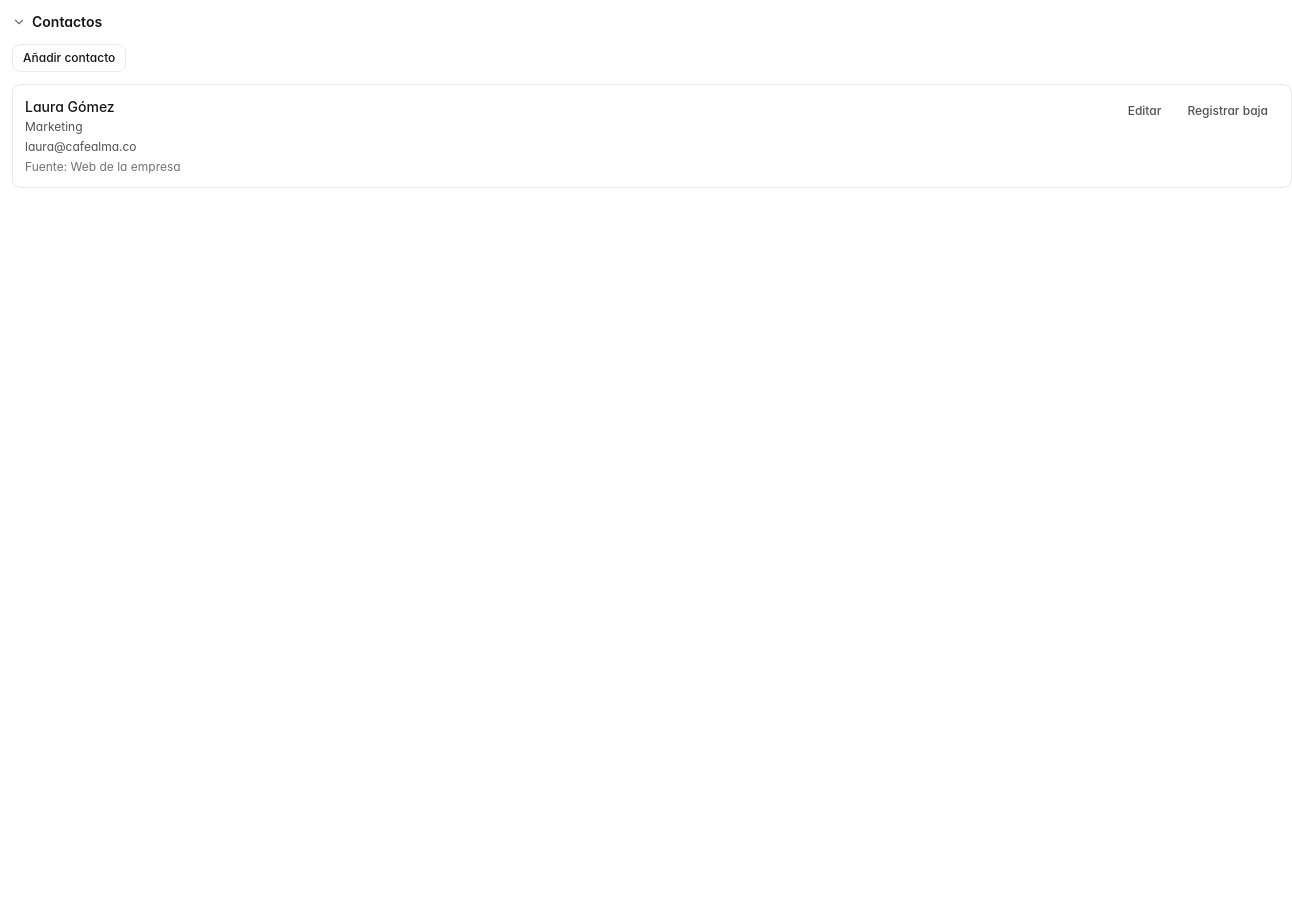
Test case: Contactos › «Editar» abre el formulario del alta con sus datos y su procedencia, y corrige el correo
Click the button with aria-label "Editar: Laura Gómez" at point(1145, 111), box [1117,97,1172,125]
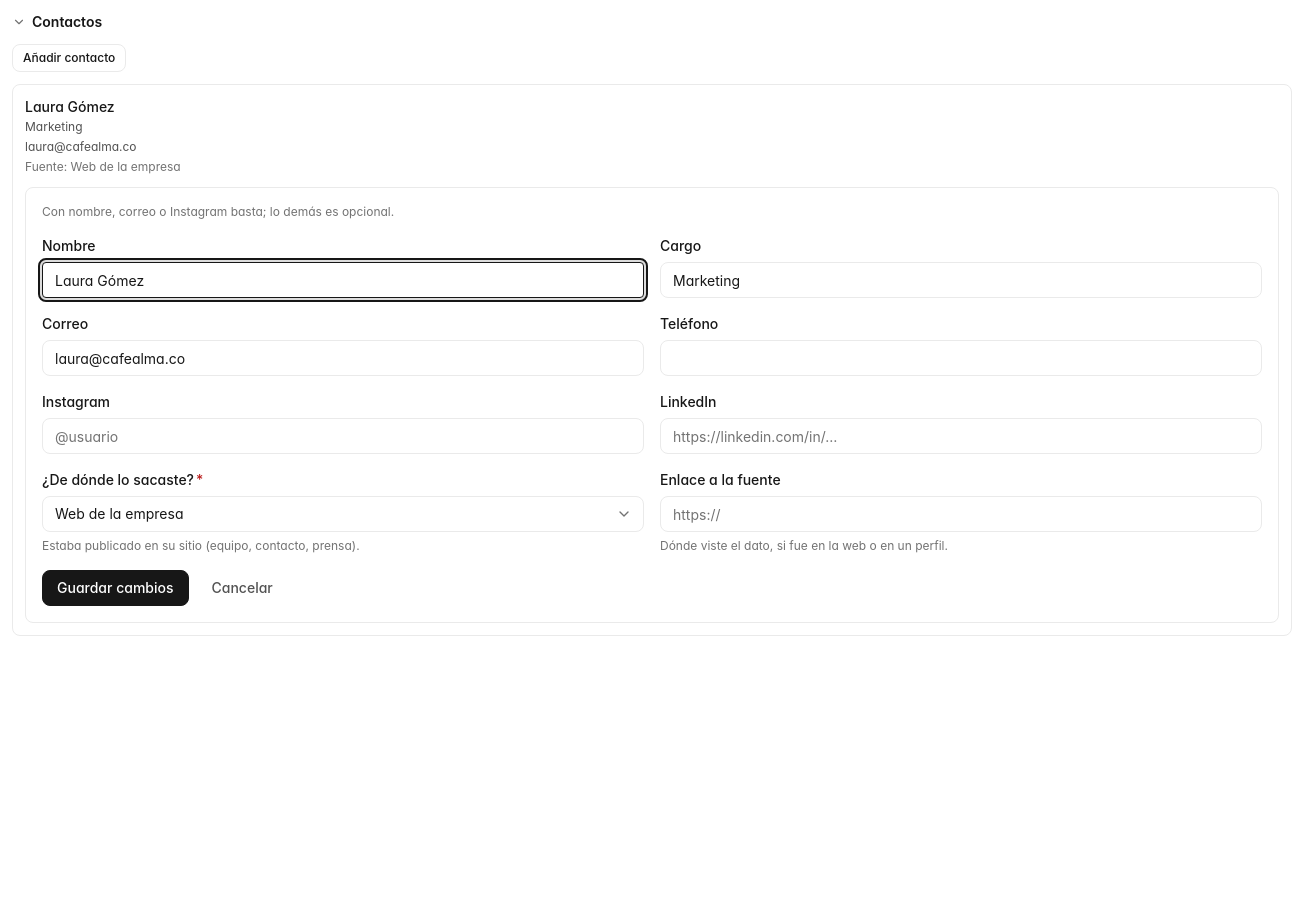
Result: the field labelled "Nombre" holds "Laura Gómez" at [42,262,644,298]
Result: the field labelled "Correo" holds "laura@cafealma.co"
Result: the dropdown labelled "¿De dónde lo sacaste?*" shows "Web de la empresa" at [42,496,644,532]
Replace the text in the field labelled "Correo" with "laura.gomez@cafealma.co" at point(343, 358), box [42,340,644,376]
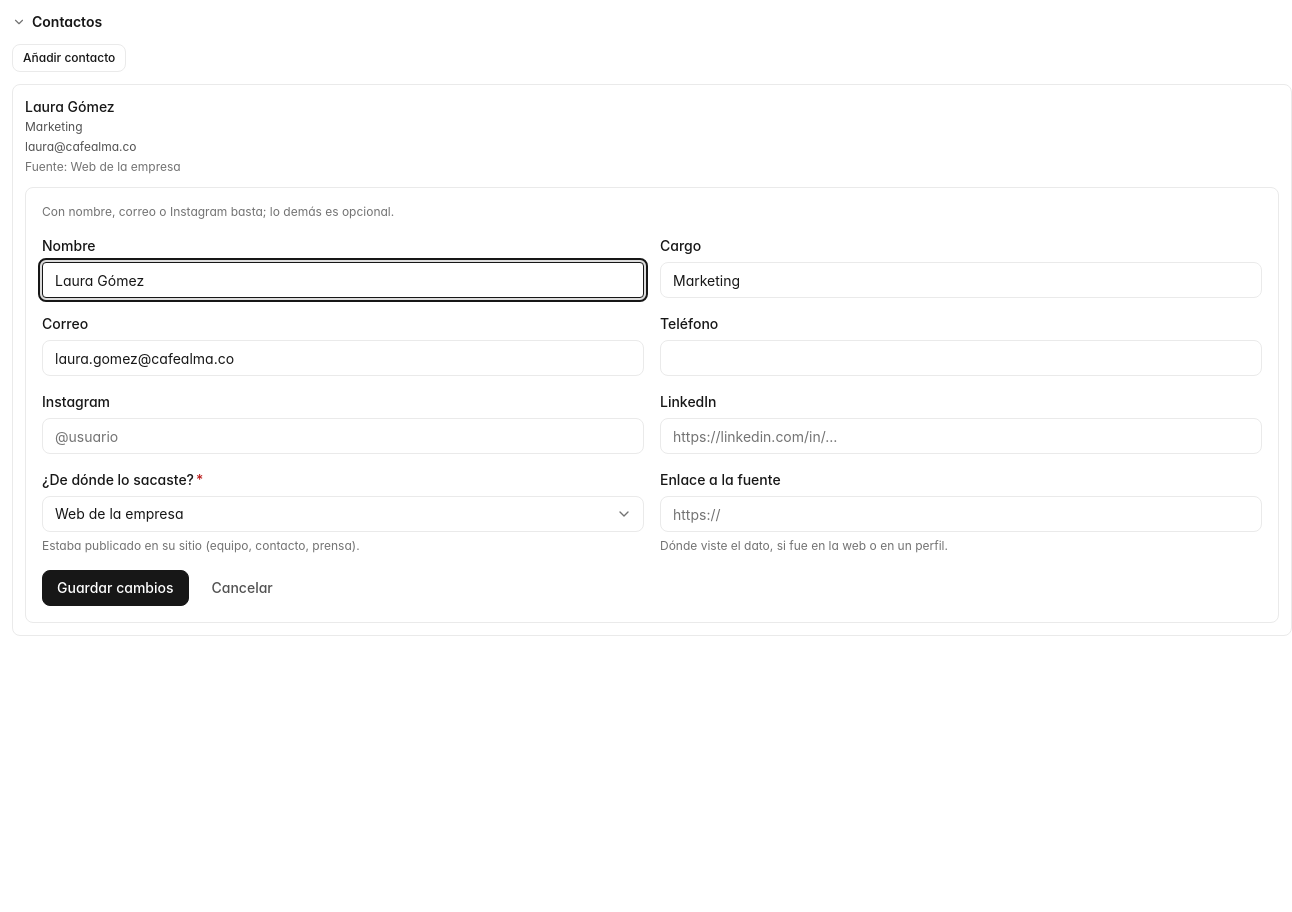
Click the button "Guardar cambios" at point(115, 588), box [42,570,188,606]
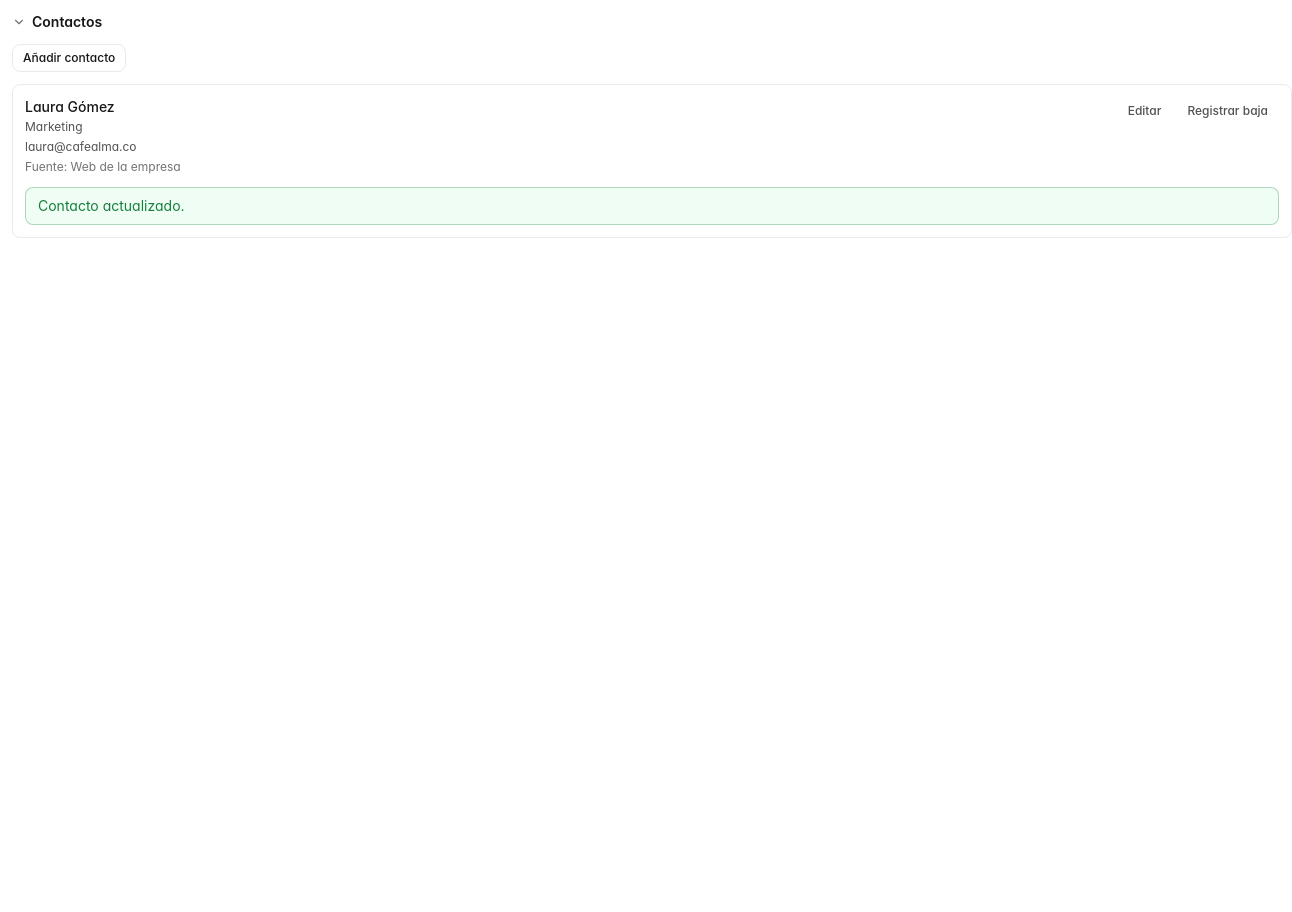
Result: the message reads "Contacto actualizado." at [38,197,185,214]
